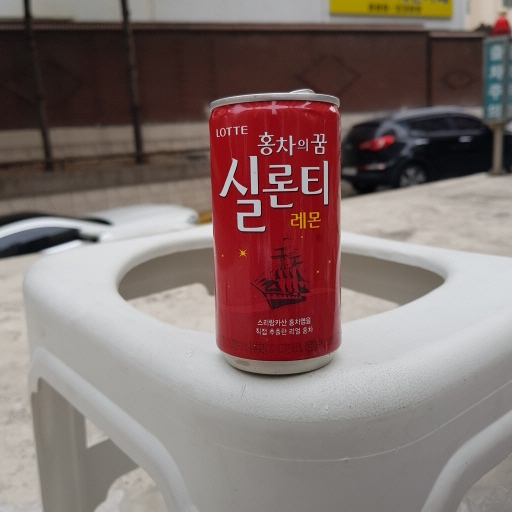Metal_0: (205, 81, 345, 379)
